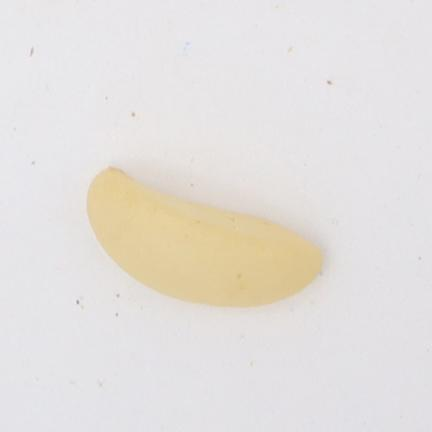parchment: (88, 168, 321, 307)
